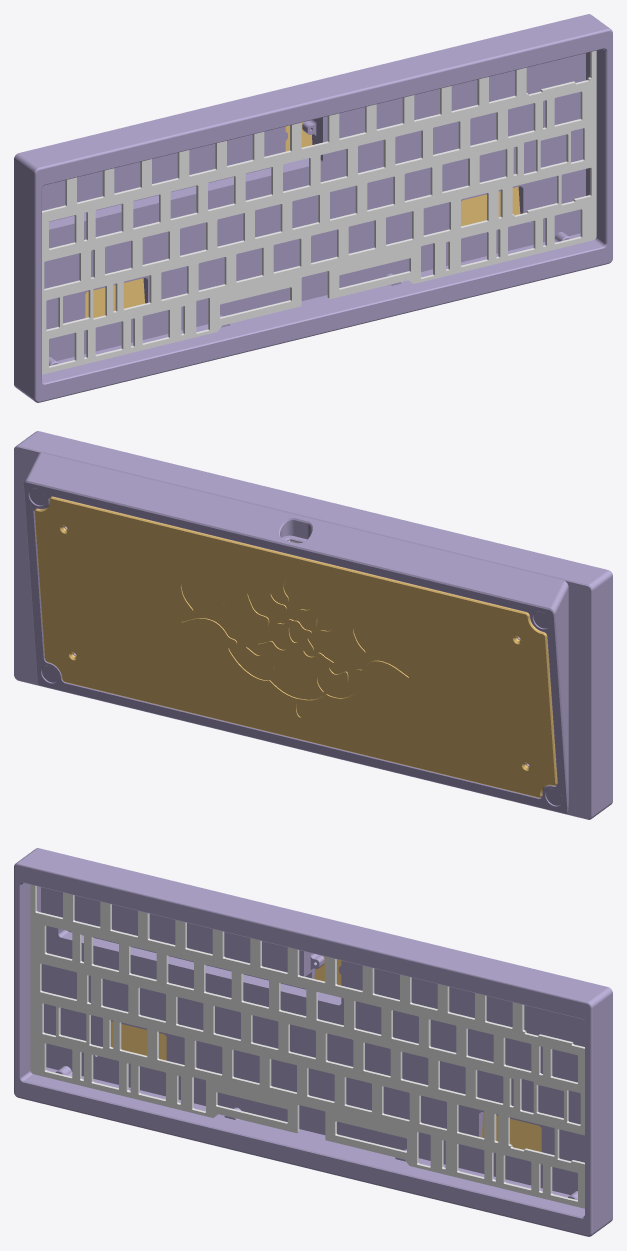
Rendered from skadineko-aunk.fbx.
3 views of the same model, one above another, from view 1: azimuth 30°, elevation 25°; view 2: azimuth 150°, elevation 25°; view 3: azimuth 330°, elevation 25° (orthographic).
Visible parts, largest first — view 1: Case, Plate, Backplate; view 2: Backplate, Case; view 3: Case, Plate, Backplate.
Boxes of the visible parts, <box> form: Case: <box>14,14,612,402</box>; Plate: <box>42,50,596,374</box>; Backplate: <box>85,122,520,317</box>; Backplate: <box>34,496,557,797</box>; Case: <box>14,431,612,819</box>; Case: <box>14,848,612,1236</box>; Plate: <box>30,884,584,1208</box>; Backplate: <box>111,956,541,1151</box>.
Bounding box in the file's own units: 294 × 114 × 31.57.
